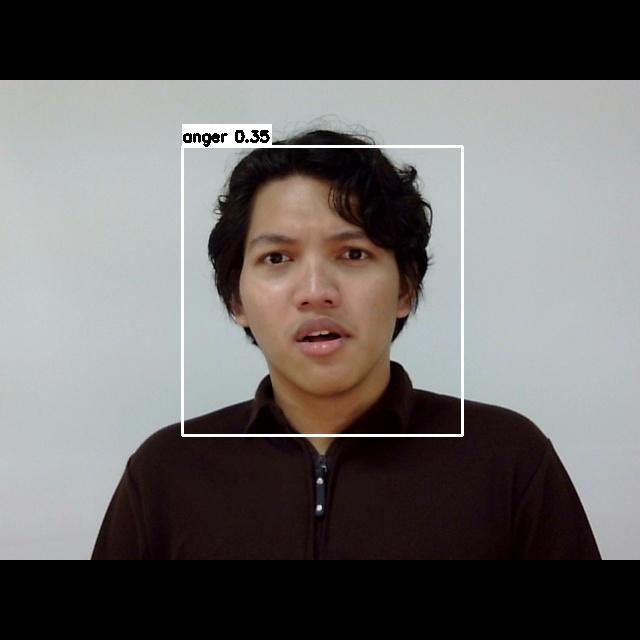Surprised: (226, 200, 421, 384)
